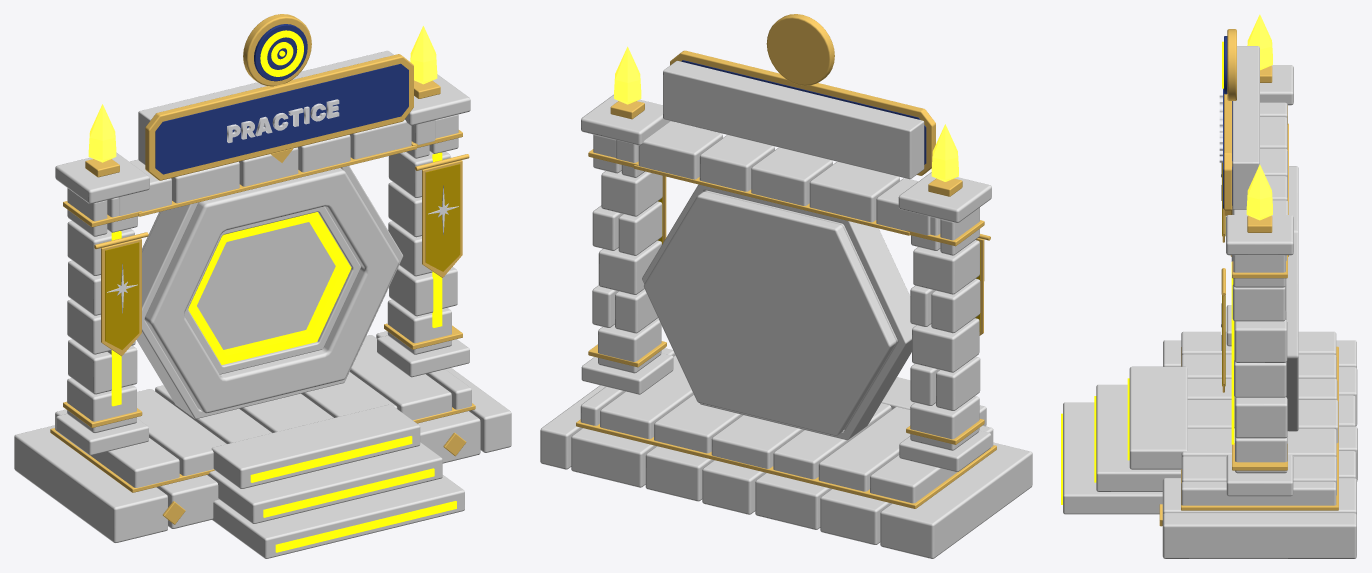
File: Lobby_PORTAL_Practice.fbx
3 renders of one model, left to right at view 1: azimuth 30°, elevation 25°; view 2: azimuth 150°, elevation 25°; view 3: azimuth 270°, elevation 25°, orthographic. The views are drawn at different scales.
Parts seen in each view (by area): view 1: Lobby_PORTAL_Practice__Marble, Lobby_PORTAL_Practice__MarbleShade, Lobby_PORTAL_Practice__Gold, Lobby_PORTAL_Practice__NavyCloth, Lobby_PORTAL_Practice__NeonPractice, Lobby_PORTAL_Practice__PortalSwirlPractice, Lobby_PORTAL_Practice__PracticeBannerCloth, Lobby_PORTAL_Practice__CrystalPractice, Lobby_PORTAL_Practice__WhiteEmblem; view 2: Lobby_PORTAL_Practice__Marble, Lobby_PORTAL_Practice__MarbleShade, Lobby_PORTAL_Practice__Gold, Lobby_PORTAL_Practice__CrystalPractice, Lobby_PORTAL_Practice__NavyCloth; view 3: Lobby_PORTAL_Practice__Marble, Lobby_PORTAL_Practice__MarbleShade, Lobby_PORTAL_Practice__Gold, Lobby_PORTAL_Practice__CrystalPractice, Lobby_PORTAL_Practice__NeonPractice, Lobby_PORTAL_Practice__NavyCloth.
Boxes of the visible parts, x1,y1,x2,y2 form: Lobby_PORTAL_Practice__Marble: (55,50,471,558); Lobby_PORTAL_Practice__MarbleShade: (14,166,511,543); Lobby_PORTAL_Practice__Gold: (50,14,475,524); Lobby_PORTAL_Practice__NavyCloth: (155,24,408,174); Lobby_PORTAL_Practice__NeonPractice: (111,30,456,552); Lobby_PORTAL_Practice__PortalSwirlPractice: (197,222,335,349); Lobby_PORTAL_Practice__PracticeBannerCloth: (105,164,460,349); Lobby_PORTAL_Practice__CrystalPractice: (88,26,437,162); Lobby_PORTAL_Practice__WhiteEmblem: (107,99,458,313); Lobby_PORTAL_Practice__Marble: (580,61,993,503); Lobby_PORTAL_Practice__MarbleShade: (540,184,1032,558); Lobby_PORTAL_Practice__Gold: (576,14,996,508); Lobby_PORTAL_Practice__CrystalPractice: (614,46,958,181); Lobby_PORTAL_Practice__NavyCloth: (681,60,926,164); Lobby_PORTAL_Practice__Marble: (1063,46,1338,514); Lobby_PORTAL_Practice__MarbleShade: (1162,166,1357,558); Lobby_PORTAL_Practice__Gold: (1159,29,1338,526); Lobby_PORTAL_Practice__CrystalPractice: (1246,14,1272,220); Lobby_PORTAL_Practice__NeonPractice: (1061,41,1234,504); Lobby_PORTAL_Practice__NavyCloth: (1223,36,1232,208).
Size of the model in its own units: 15.88 by 17.35 by 10.7.
